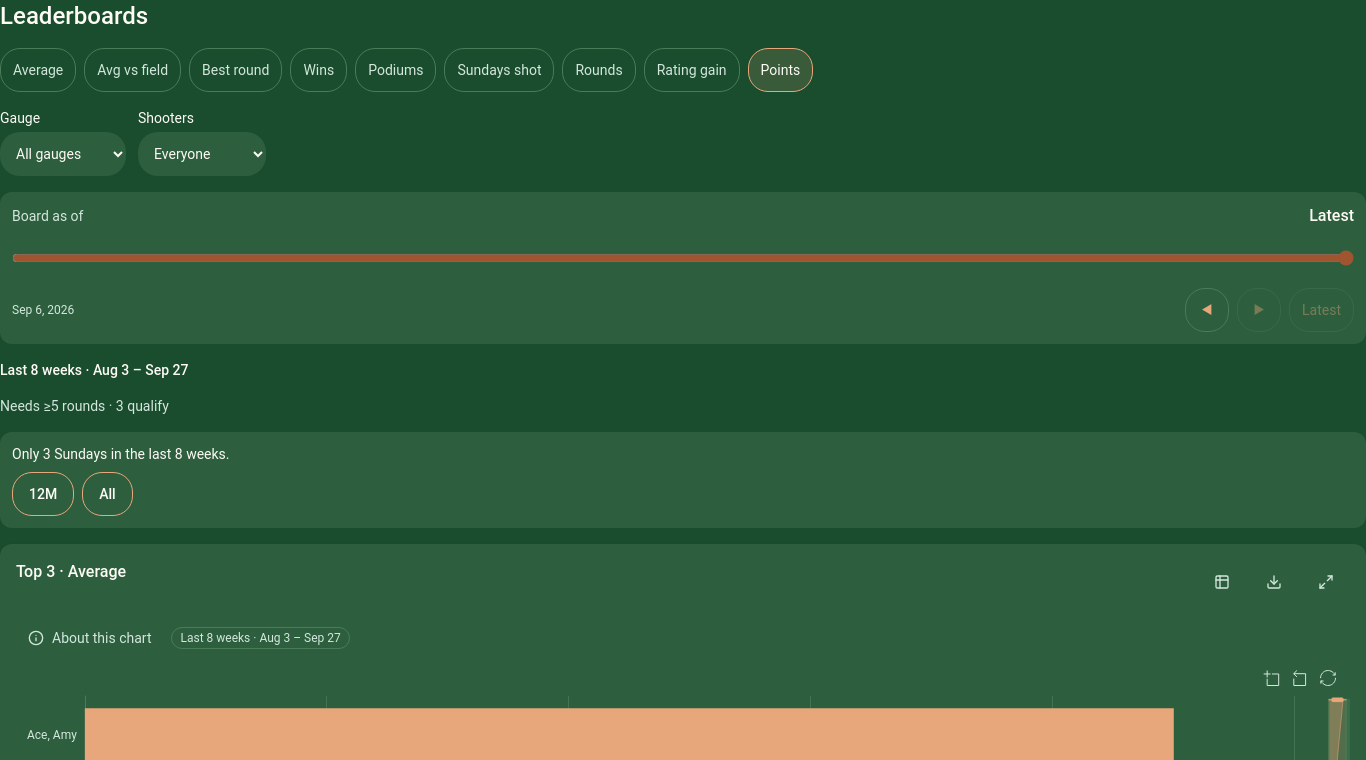
LeaderboardsPage › explains the chart for the chosen measure and period
Click the button "About this chart".
click(90, 638)  # box [16,616,164,660]
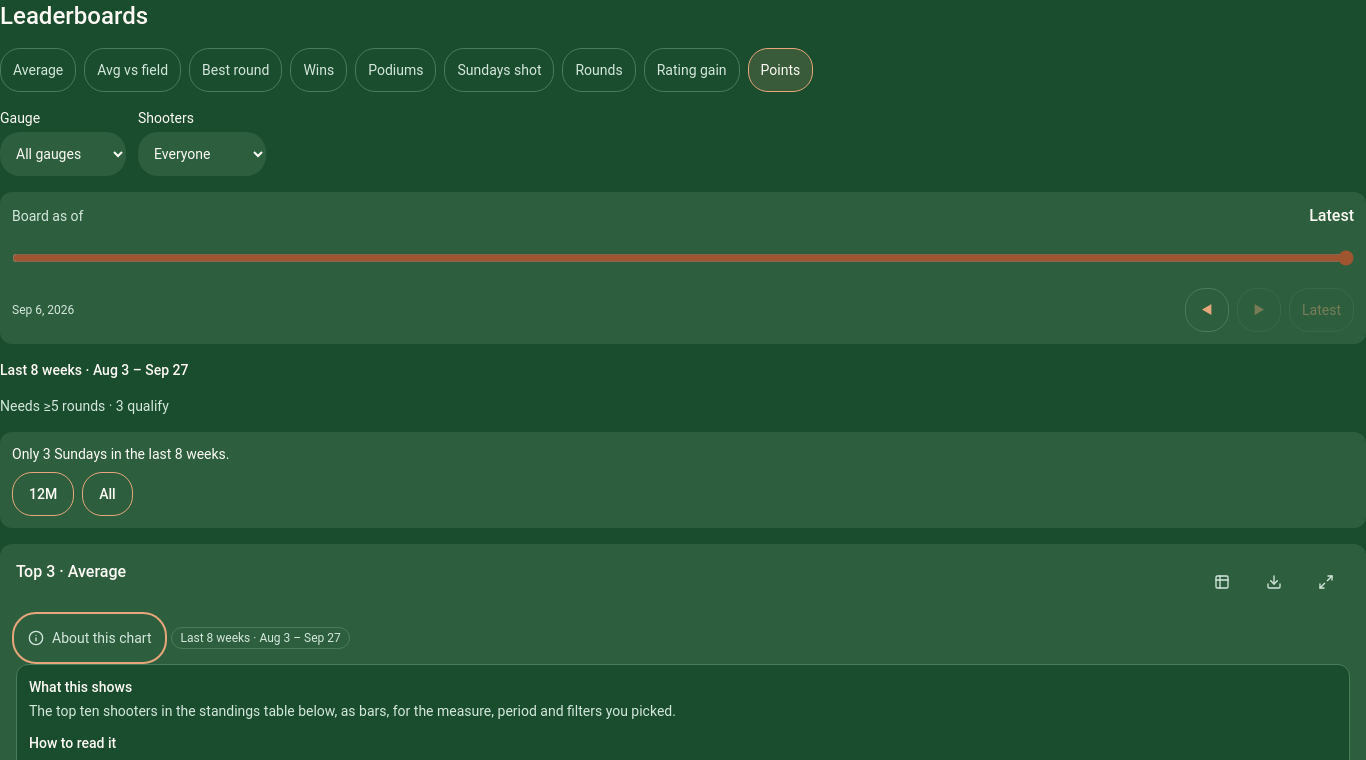
Now the button "About this chart" is expanded
Now the heading "What this shows" is shown, box [29,679,132,695]
Now the heading "How to read it" is shown, box [29,735,116,751]
Click the button "About this chart".
click(90, 638)  # box [16,616,164,660]
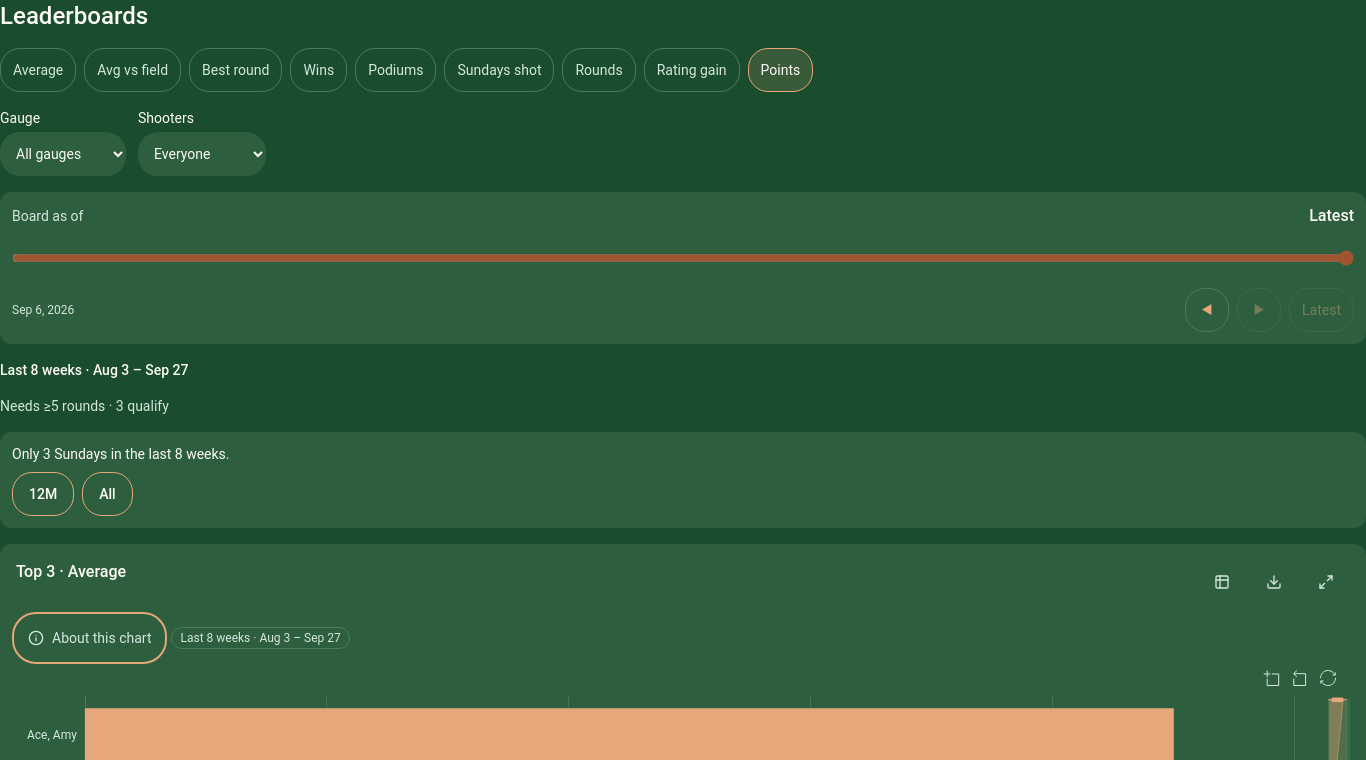
Now the heading "What this shows" is gone
